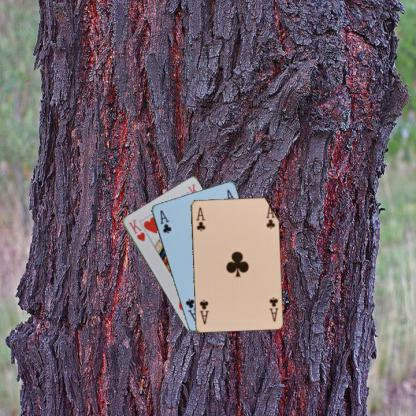Ac: (157, 208, 173, 235), (266, 294, 280, 322), (193, 205, 206, 232)
Kh: (126, 216, 146, 242)
